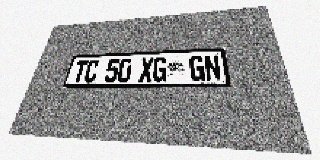0: (116, 58, 132, 82)
5: (104, 59, 120, 82)
C: (83, 60, 100, 83)
G: (189, 55, 205, 81), (152, 57, 167, 82)
N: (204, 55, 222, 81)
T: (71, 60, 89, 83)
X: (138, 57, 154, 82)
